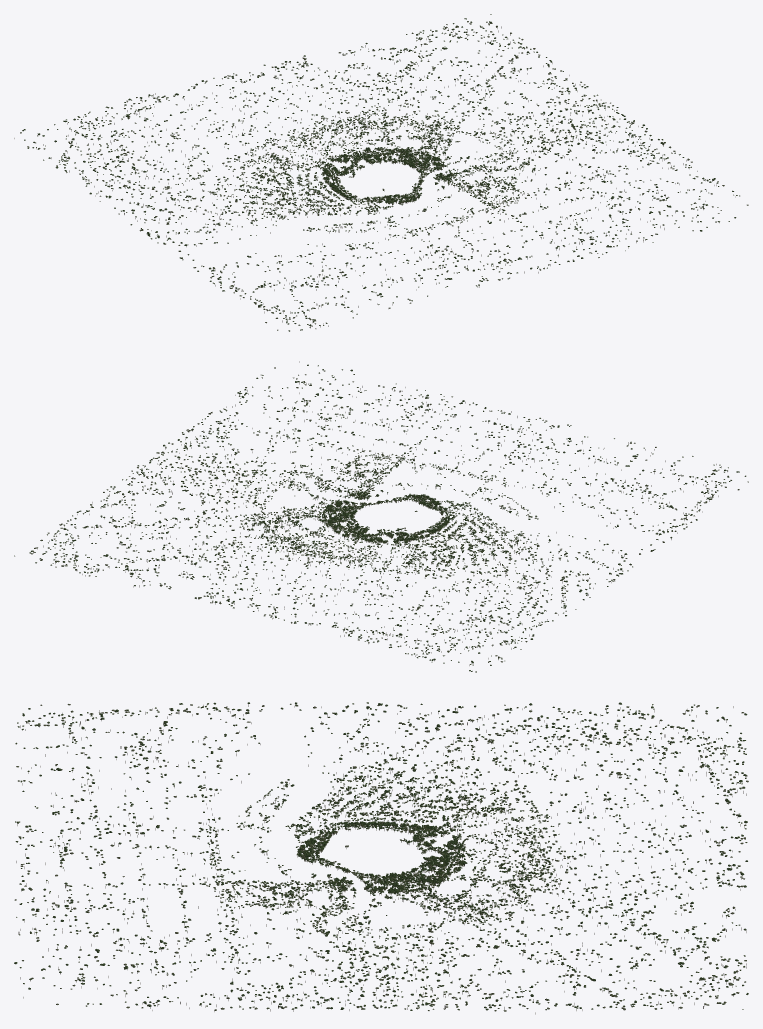
The model's file is adelaide_backdrop_part2.glb.
3 views of the same model, one above another, from view 1: azimuth 30°, elevation 25°; view 2: azimuth 150°, elevation 25°; view 3: azimuth 270°, elevation 25° (orthographic). The views are drawn at different scales.
Visible parts, largest first — view 1: bg_trees_joined_s15, bg_trees_joined_s12, bg_trees_joined_s13, bg_trees_joined_s11, bg_trees_joined_s14, bg_trees_joined_s05, bg_trees_joined_s07, bg_trees_joined_s10, bg_trees_joined_s08, bg_trees_joined_s04, bg_trees_joined_s09, bg_trees_joined_s06 (+4 smaller); view 2: bg_trees_joined_s12, bg_trees_joined_s15, bg_trees_joined_s13, bg_trees_joined_s11, bg_trees_joined_s14, bg_trees_joined_s10, bg_trees_joined_s05, bg_trees_joined_s07, bg_trees_joined_s08, bg_trees_joined_s04, bg_trees_joined_s09, bg_trees_joined_s06 (+4 smaller); view 3: bg_trees_joined_s12, bg_trees_joined_s15, bg_trees_joined_s13, bg_trees_joined_s11, bg_trees_joined_s14, bg_trees_joined_s07, bg_trees_joined_s05, bg_trees_joined_s04, bg_trees_joined_s10, bg_trees_joined_s08, bg_trees_joined_s09, bg_trees_joined_s06 (+4 smaller).
Part boxes in pixels (bbox=[...]): bg_trees_joined_s15: bbox=[14, 138, 273, 234]; bg_trees_joined_s12: bbox=[422, 14, 623, 148]; bg_trees_joined_s13: bbox=[257, 18, 480, 124]; bg_trees_joined_s11: bbox=[501, 115, 748, 210]; bg_trees_joined_s14: bbox=[20, 72, 320, 157]; bg_trees_joined_s05: bbox=[325, 117, 418, 164]; bg_trees_joined_s07: bbox=[258, 160, 355, 204]; bg_trees_joined_s10: bbox=[454, 187, 736, 273]; bg_trees_joined_s08: bbox=[147, 204, 349, 330]; bg_trees_joined_s04: bbox=[396, 121, 497, 168]; bg_trees_joined_s09: bbox=[289, 222, 517, 331]; bg_trees_joined_s06: bbox=[263, 124, 369, 171]; bg_trees_joined_s12: bbox=[14, 457, 275, 556]; bg_trees_joined_s15: bbox=[419, 544, 620, 665]; bg_trees_joined_s13: bbox=[35, 530, 319, 608]; bg_trees_joined_s11: bbox=[155, 367, 352, 489]; bg_trees_joined_s14: bbox=[253, 560, 476, 672]; bg_trees_joined_s10: bbox=[298, 361, 517, 468]; bg_trees_joined_s05: bbox=[264, 519, 369, 557]; bg_trees_joined_s07: bbox=[395, 527, 495, 565]; bg_trees_joined_s08: bbox=[498, 476, 748, 574]; bg_trees_joined_s04: bbox=[258, 490, 357, 530]; bg_trees_joined_s09: bbox=[450, 417, 745, 501]; bg_trees_joined_s06: bbox=[323, 529, 416, 568]; bg_trees_joined_s12: bbox=[381, 908, 743, 1014]; bg_trees_joined_s15: bbox=[381, 702, 733, 804]; bg_trees_joined_s13: bbox=[505, 850, 748, 997]; bg_trees_joined_s11: bbox=[56, 905, 381, 1011]; bg_trees_joined_s14: bbox=[502, 712, 748, 852]; bg_trees_joined_s07: bbox=[381, 786, 500, 844]; bg_trees_joined_s05: bbox=[412, 851, 550, 905]; bg_trees_joined_s04: bbox=[381, 869, 499, 928]; bg_trees_joined_s10: bbox=[14, 851, 260, 998]; bg_trees_joined_s08: bbox=[29, 702, 381, 807]; bg_trees_joined_s09: bbox=[15, 708, 251, 856]; bg_trees_joined_s06: bbox=[416, 803, 551, 858].
Bounding box in the file's own units: 3014 × 58.35 × 3017.
Materials: 1 (1 with a texture image).
